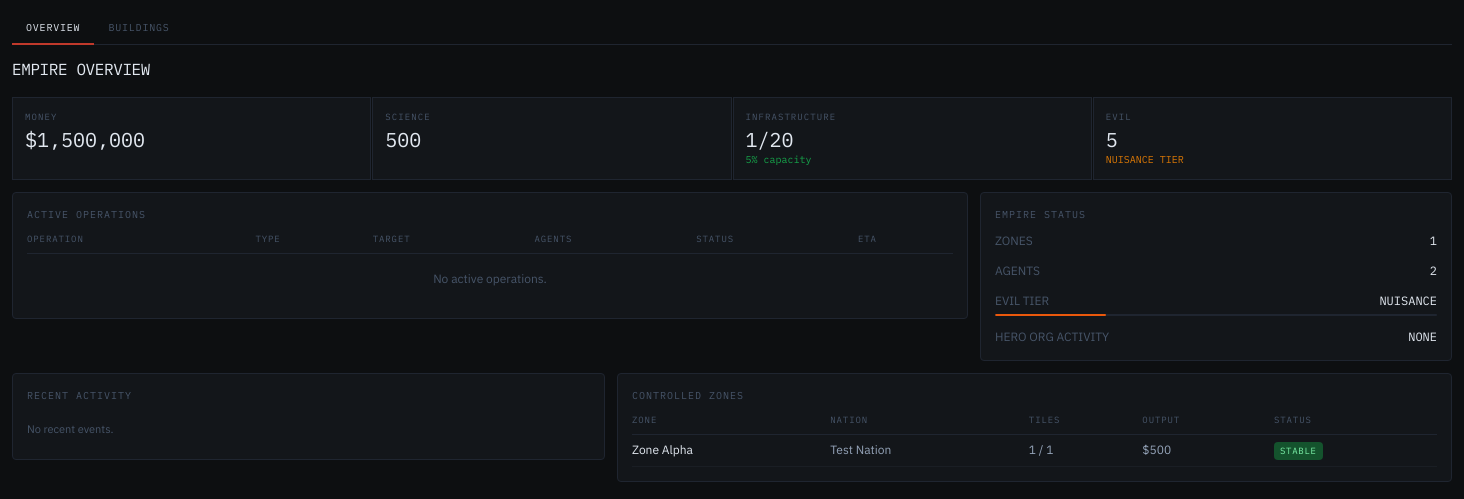
Test: EmpireScreen › shows selected building details when a row is clicked
What coordinates should you click on to do the following:
click the button "BUILDINGS"
I would click on:
 (139, 28)
Its box is [94,12,184,45].
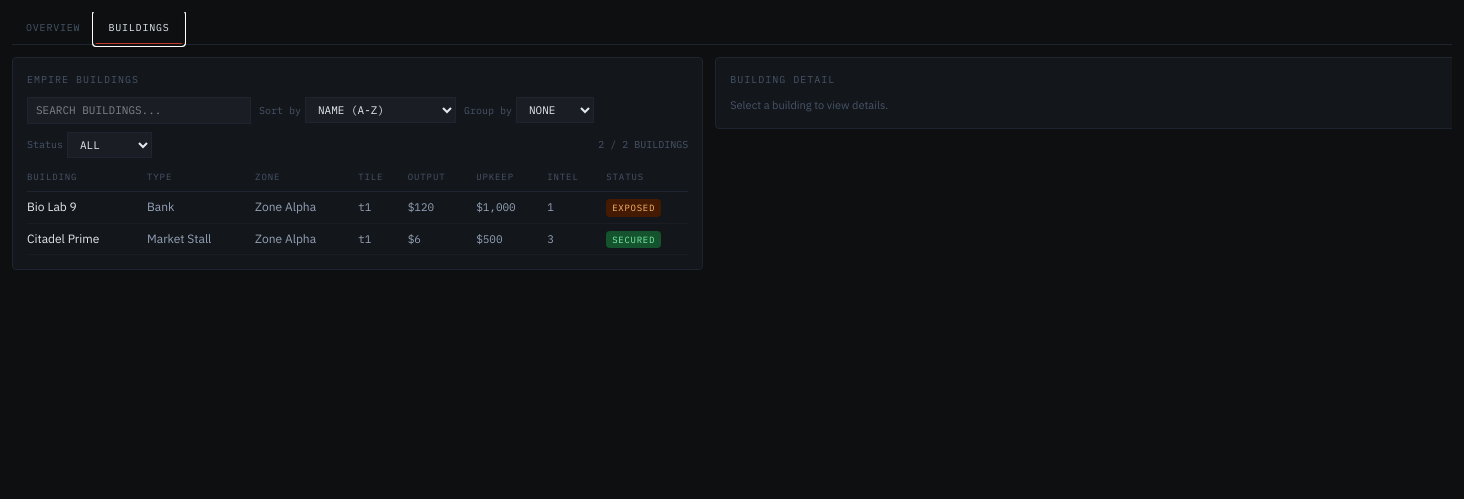
What coordinates should you click on to do the following:
click the button "Bio Lab 9 Bank Zone Alpha t1 $120 $1,000 1 EXPOSED"
I would click on:
 (358, 207)
Its box is [27,192,688,223].
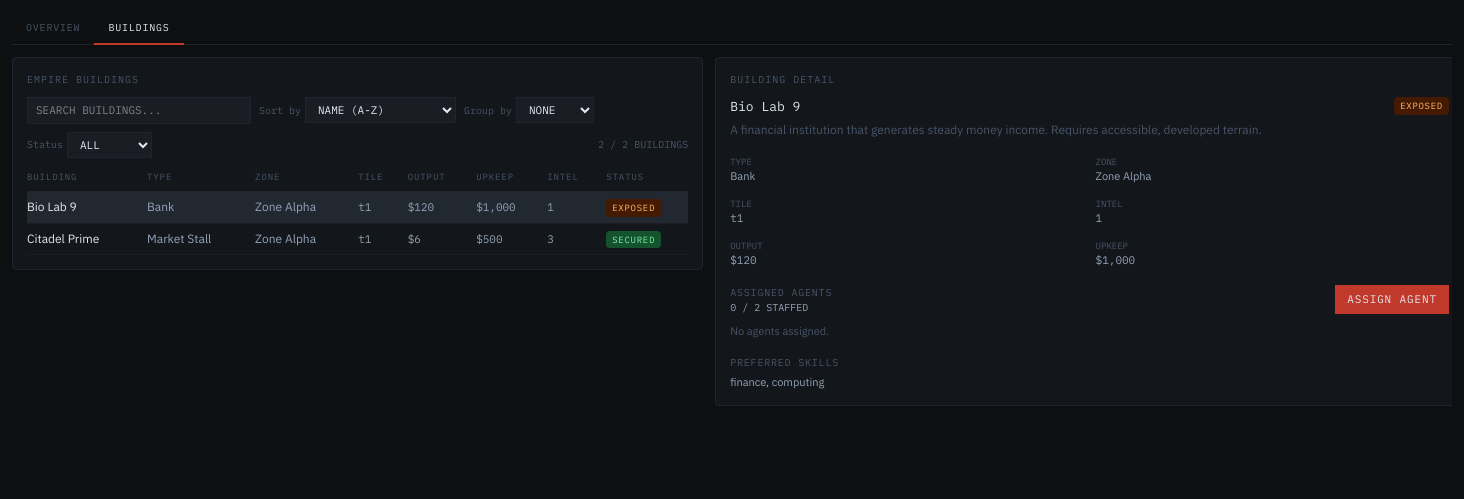
Result: the text "BUILDING DETAIL" is shown at [730,73,835,86]
Result: the text "ASSIGNED AGENTS" is shown at [730,284,832,300]
Result: the text "0 / 2 STAFFED" is shown at [730,300,808,314]
